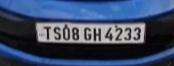0: (62, 25, 71, 41)
2: (115, 26, 123, 42)
3: (132, 26, 142, 41), (123, 27, 132, 41)
4: (104, 26, 114, 43)
8: (71, 26, 81, 42)
G: (82, 24, 93, 41)
H: (93, 26, 102, 43)
S: (53, 25, 62, 42)
T: (43, 25, 52, 41)
